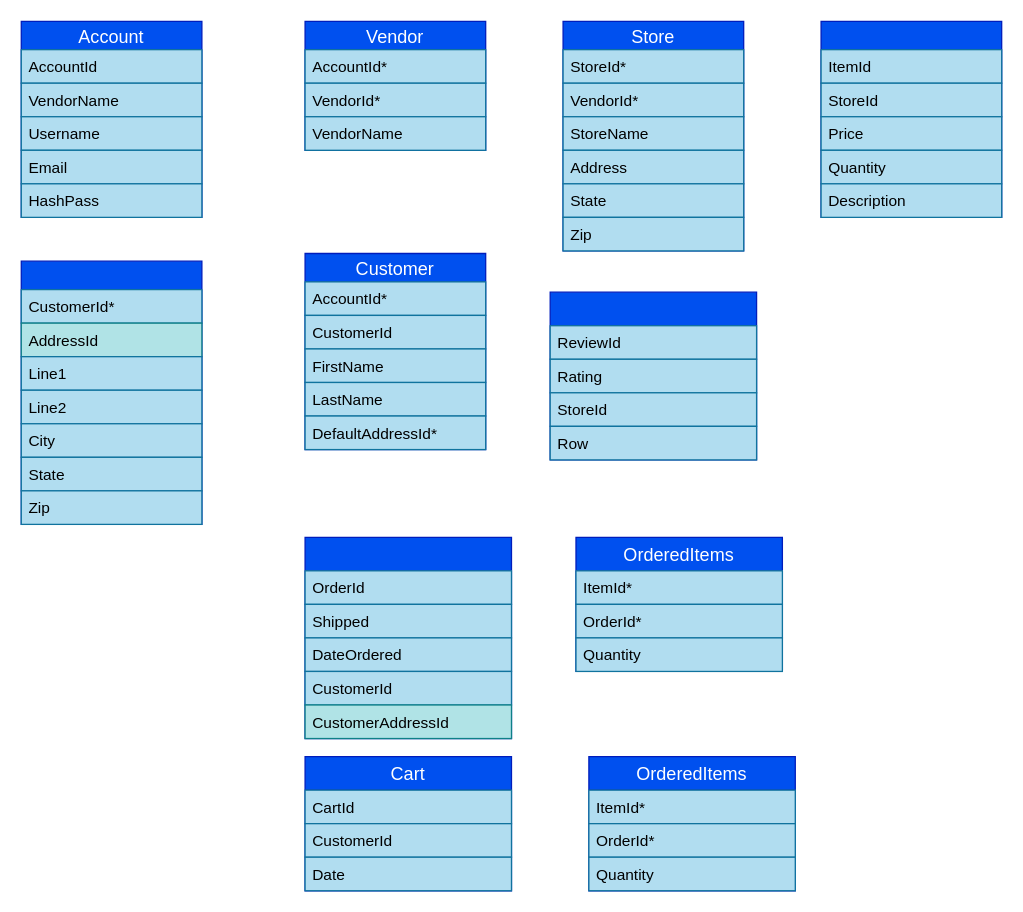
Some shapes in this 1023 by 912 pixel diagram are drawn without their labels. The shapes that lost their labels are listed below. From the top down, each one's box as (x1, y1, x2, y2) in pixels, then its label:
(820, 20, 1002, 217): Inventory
(20, 260, 202, 524): CustomerAddress
(549, 291, 757, 460): StoreReview
(304, 536, 511, 739): Orders
